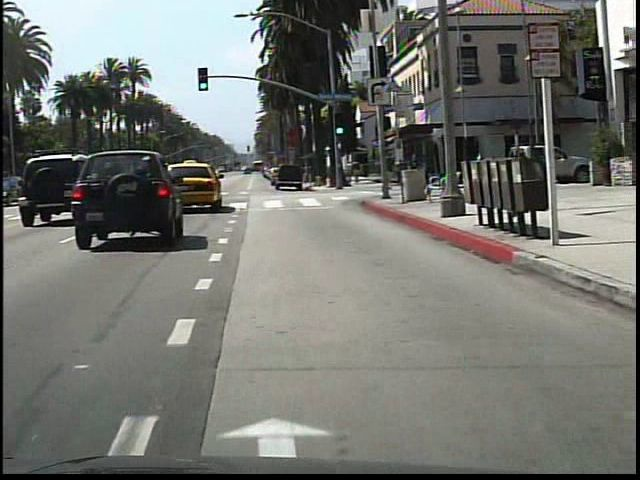person: (471, 148, 488, 193), (385, 151, 399, 194)
